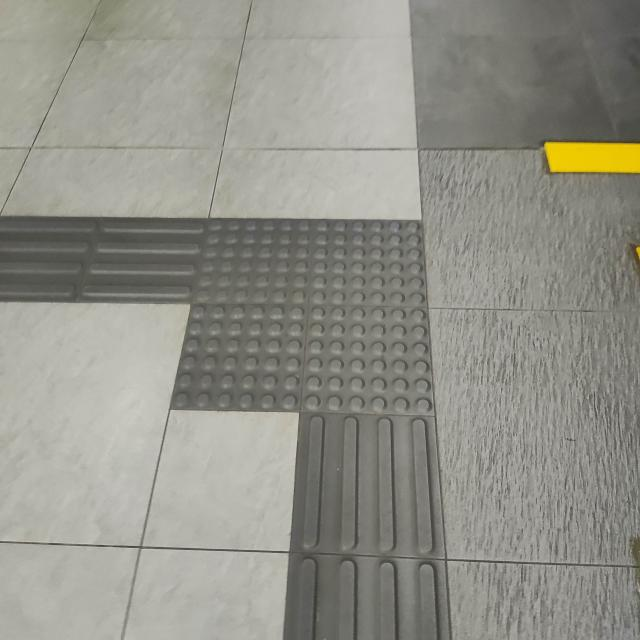kiri: (4, 131, 508, 520)
